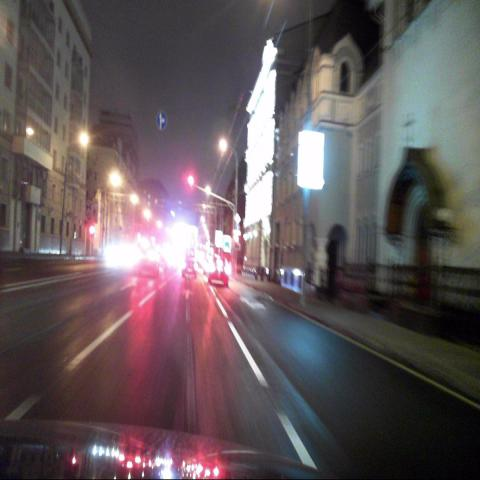4_1_4: (156, 111, 166, 129)
